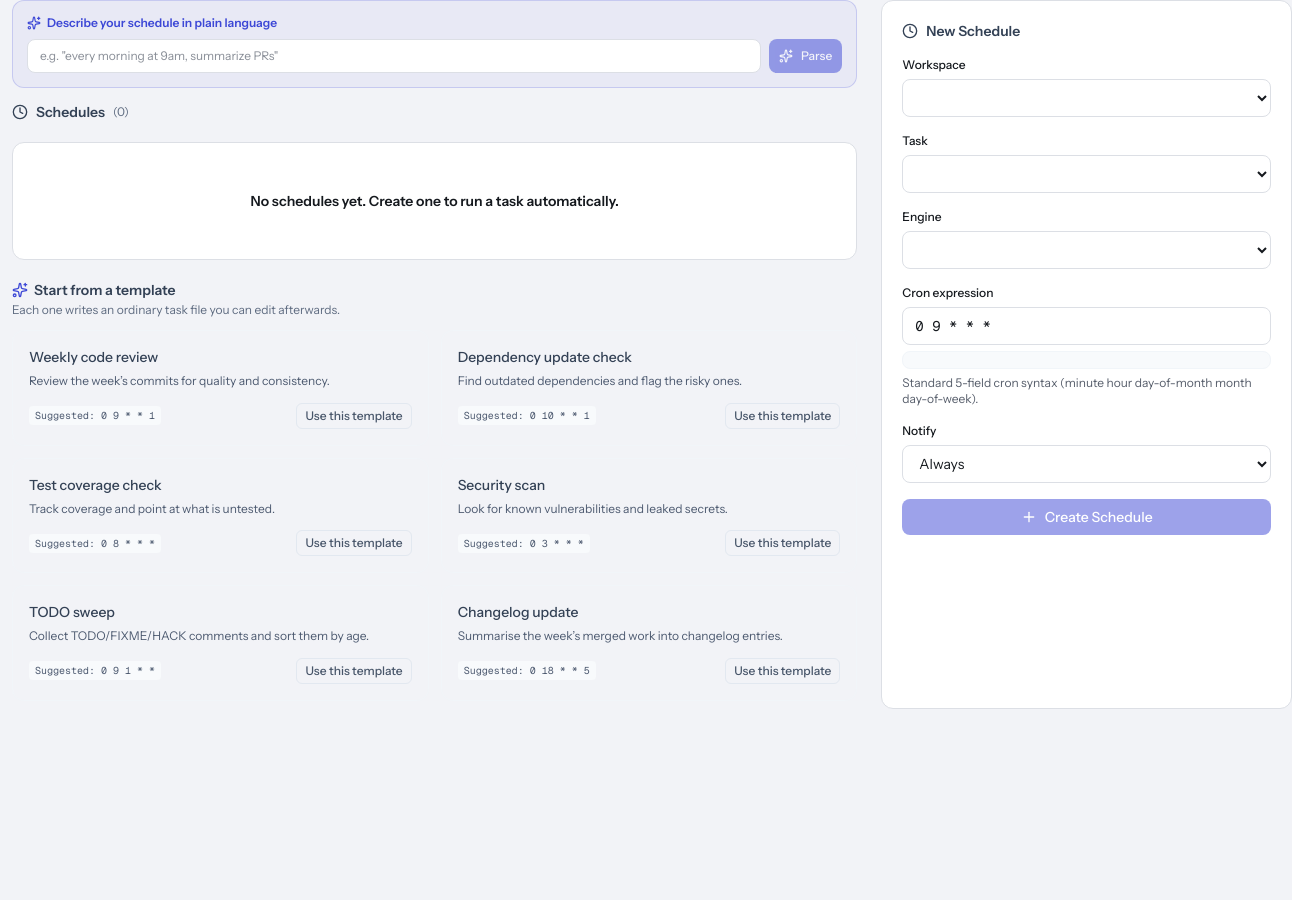
Test: CronPage natural language parsing › parses natural language input, creates blueprint and prefills form
Type "每周一早上9点检查代码" into the field named "Describe your schedule in plain language" at (394, 56), box [27, 39, 761, 73]
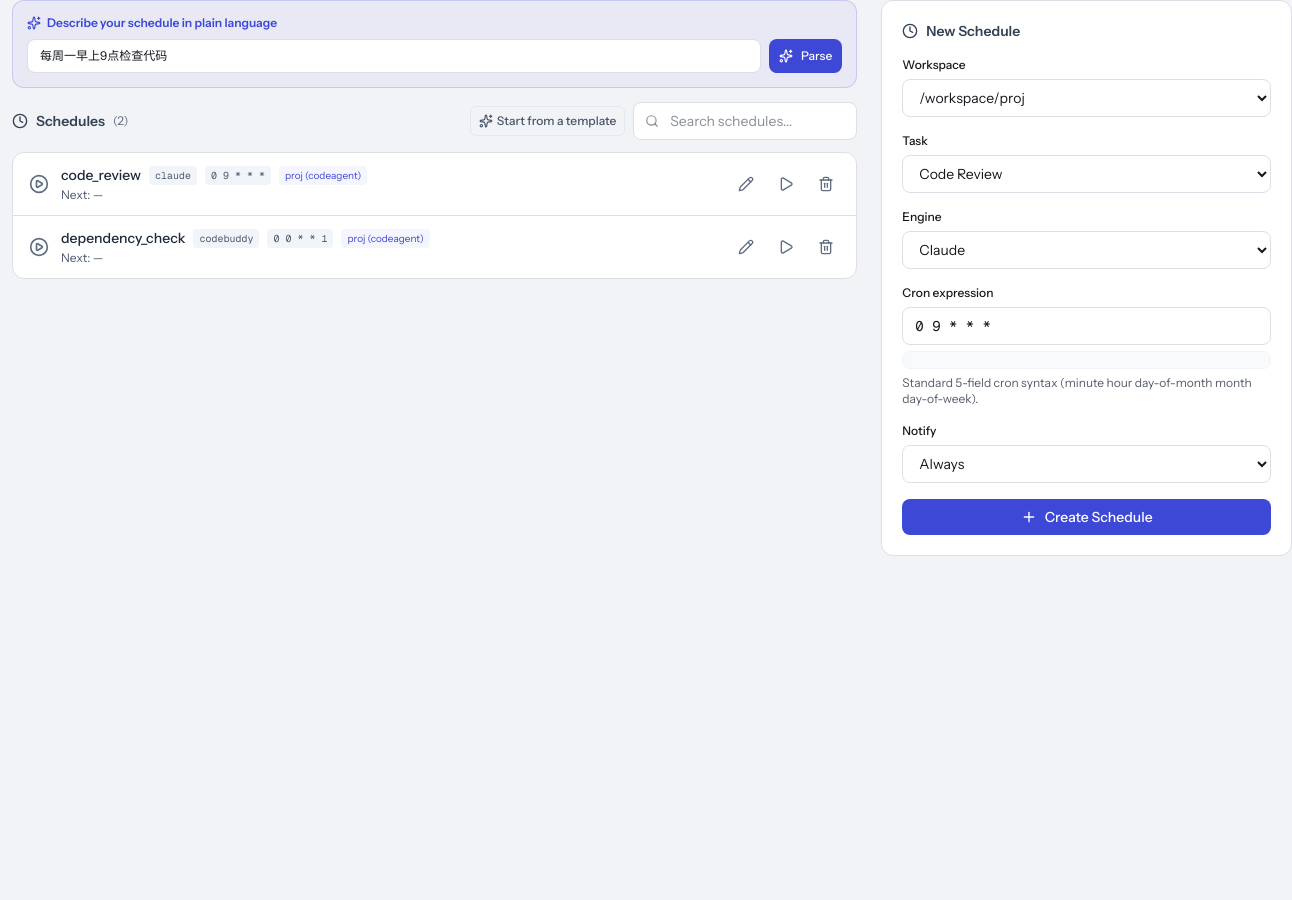
Click the button "Parse" at (806, 56), box [769, 39, 842, 73]
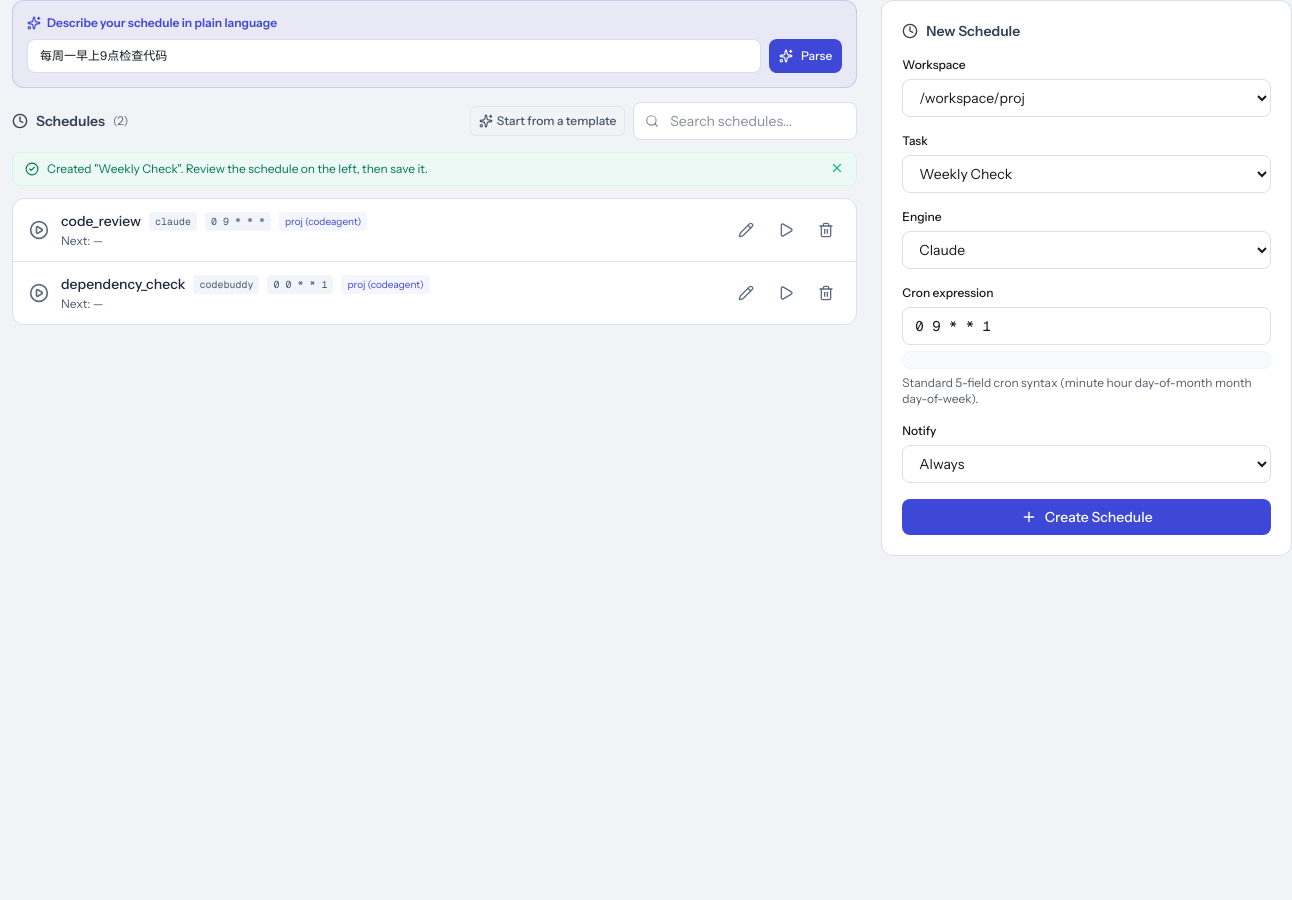
Result: the field showing "0 9 * * 1" is shown at [902, 307, 1271, 345]
